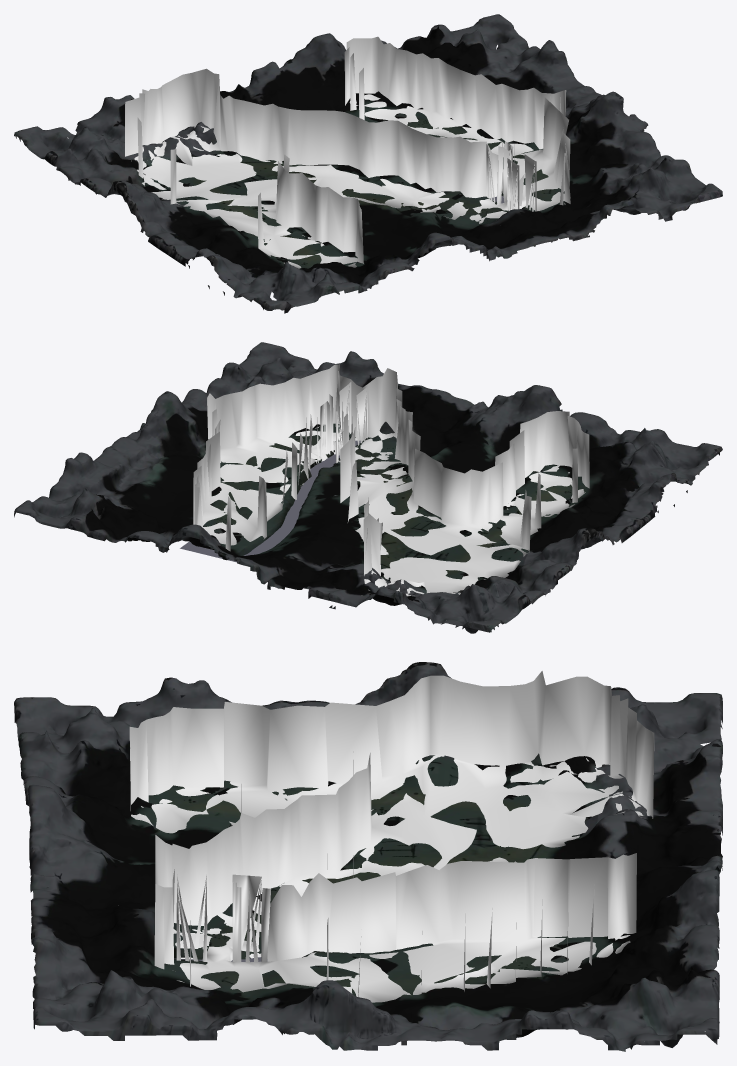
File: terrain.glb
The picture shows the model from 3 angles, top to bottom: view 1: azimuth 30°, elevation 25°; view 2: azimuth 150°, elevation 25°; view 3: azimuth 270°, elevation 25°; orthographic projection. The views are drawn at different scales.
Parts seen in each view (by area): view 1: TERRAIN, RIDGID; view 2: TERRAIN, RIDGID, Plane; view 3: RIDGID, TERRAIN.
Part boxes in pixels (<box>): TERRAIN: <box>14,14,722,313</box>; RIDGID: <box>125,36,570,268</box>; TERRAIN: <box>14,342,722,633</box>; RIDGID: <box>193,364,589,596</box>; Plane: <box>180,440,360,562</box>; RIDGID: <box>129,671,654,1002</box>; TERRAIN: <box>14,662,722,1051</box>.
Bounding box in the file's own units: 82.09 × 15.68 × 72.11.
Materials: 2 (1 with a texture image).
